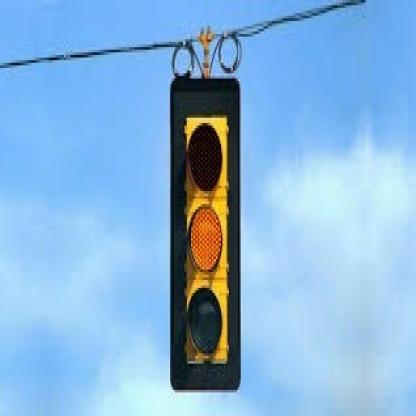Traffic Signal: (171, 82, 243, 384)
